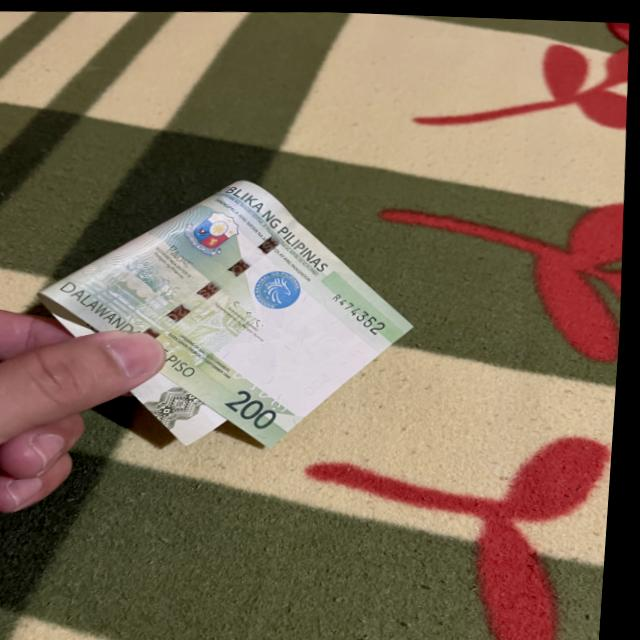security_thread: (144, 215, 306, 338)
see_through_mark: (233, 360, 302, 415)
serial_number: (331, 285, 395, 334)
